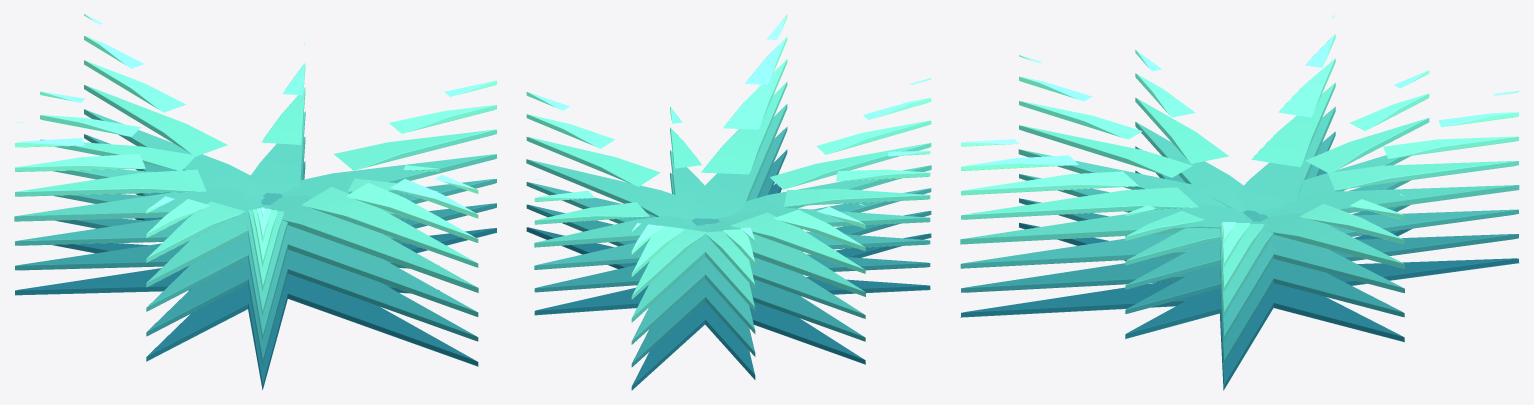
The model's file is layers.glb.
The picture shows the model from 3 angles, left to right: view 1: azimuth 30°, elevation 25°; view 2: azimuth 150°, elevation 25°; view 3: azimuth 270°, elevation 25°; orthographic projection. The views are drawn at different scales.
Visible parts, largest first — view 1: L3, L4, L2, L0, L1, L5, L6; view 2: L3, L4, L2, L1, L0, L5, L6; view 3: L3, L4, L2, L0, L1, L5, L6.
Part boxes in pixels (x1,y1,x2,y2): L3: [14, 109, 496, 316]; L4: [15, 85, 496, 291]; L2: [15, 134, 496, 340]; L0: [15, 217, 496, 389]; L1: [15, 161, 496, 365]; L5: [15, 60, 496, 266]; L6: [15, 36, 496, 242]; L3: [526, 104, 931, 322]; L4: [526, 82, 931, 299]; L2: [526, 127, 931, 344]; L1: [526, 149, 931, 367]; L0: [526, 183, 931, 390]; L5: [526, 59, 931, 276]; L6: [526, 37, 931, 254]; L3: [960, 106, 1519, 316]; L4: [961, 83, 1518, 292]; L2: [960, 131, 1518, 340]; L0: [960, 223, 1519, 390]; L1: [961, 169, 1518, 365]; L5: [961, 58, 1518, 267]; L6: [961, 34, 1518, 243].
Bounding box in the file's own units: 5.58 × 2.21 × 6.4.
